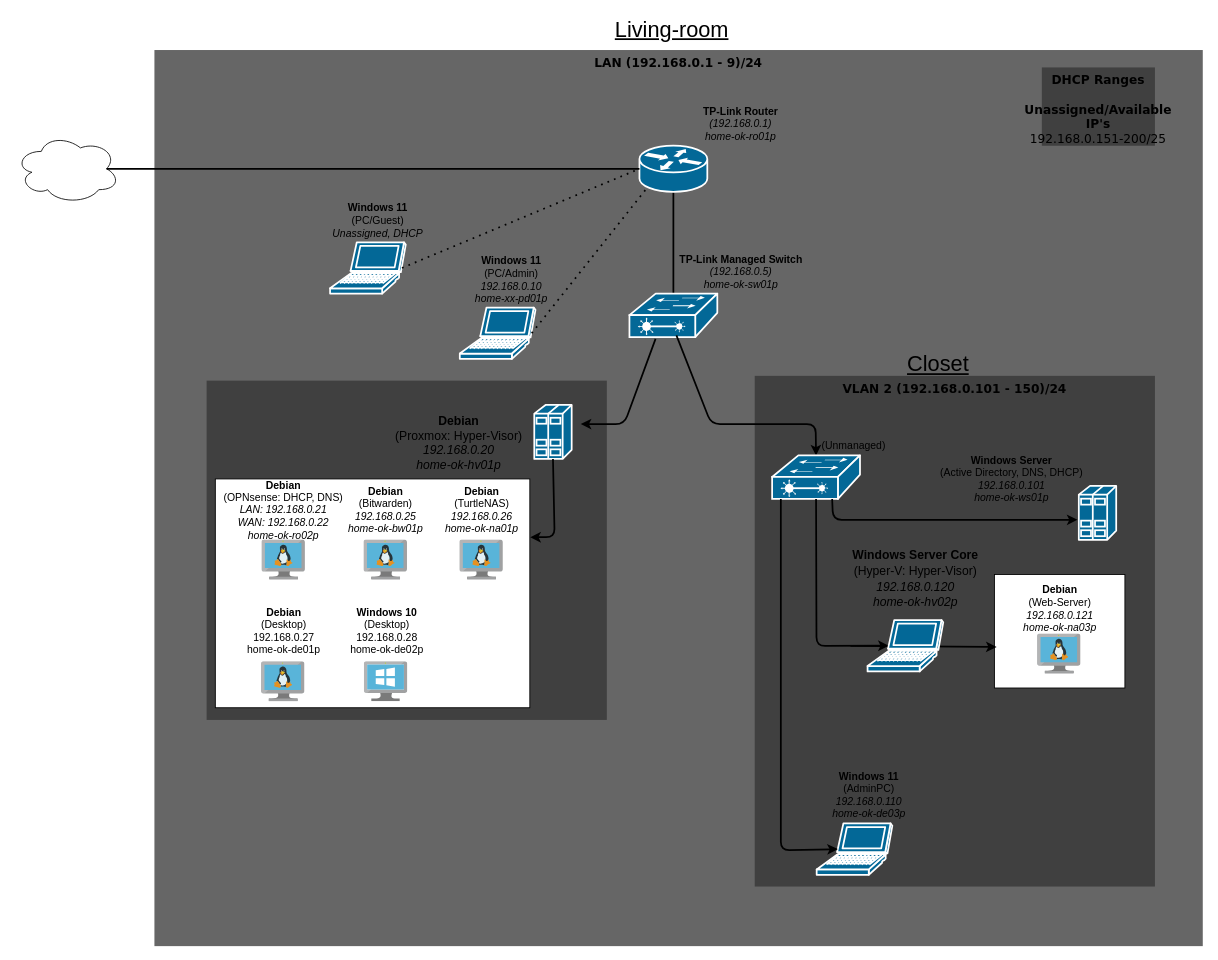
Some shapes in this 1218 by 960 pixel diagram are drawn without their labels. The shapes that lost their labels are listed below. From the top down, each one's box as (x1, y1, x2, y2) in pixels, then its label:
(14, 133, 120, 204): Internet
(206, 380, 606, 719): VLAN 1 (192.168.0.20 - 100)/24
